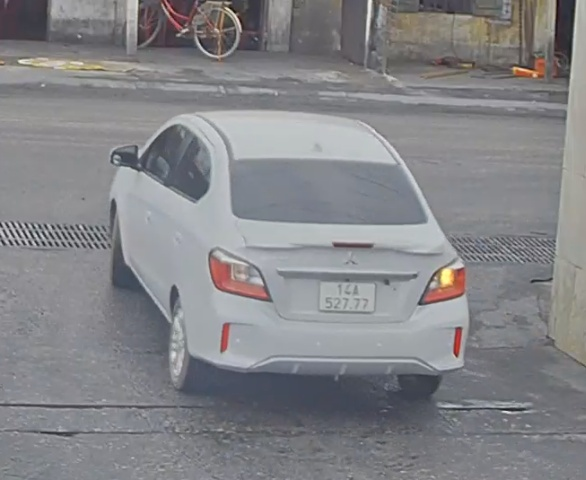vehicle plate: (310, 276, 378, 318)
